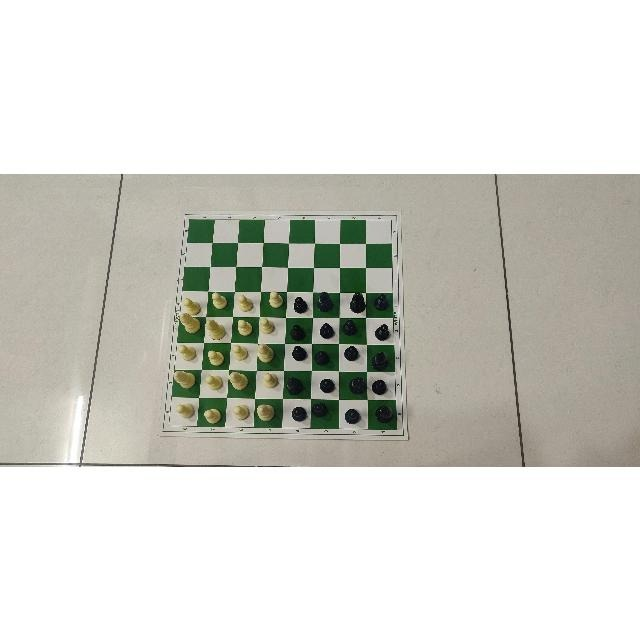black-bishop: (368, 348, 389, 372), (374, 403, 396, 425), (349, 374, 368, 397), (316, 289, 334, 313), (349, 290, 365, 315), (287, 374, 305, 394)
black-pawn: (344, 406, 362, 424), (372, 323, 389, 341), (341, 316, 357, 335), (371, 294, 390, 310), (343, 343, 358, 362), (313, 349, 329, 366), (311, 401, 328, 417), (372, 378, 389, 394), (291, 344, 305, 363), (319, 377, 335, 393), (293, 294, 307, 312), (292, 405, 306, 422), (319, 320, 333, 337), (290, 324, 304, 340)
white-bishop: (205, 316, 229, 342), (254, 401, 277, 425), (172, 369, 196, 390), (172, 403, 197, 423), (227, 368, 248, 391), (179, 313, 199, 335), (257, 339, 276, 362)
white-pawn: (172, 402, 195, 421), (178, 341, 196, 364), (204, 402, 221, 426), (257, 315, 276, 335), (231, 341, 250, 360), (262, 370, 280, 389), (204, 372, 223, 390), (206, 348, 223, 368), (210, 290, 227, 309), (238, 292, 254, 312), (268, 288, 284, 308), (233, 400, 248, 421), (182, 295, 200, 311), (237, 317, 252, 336)
